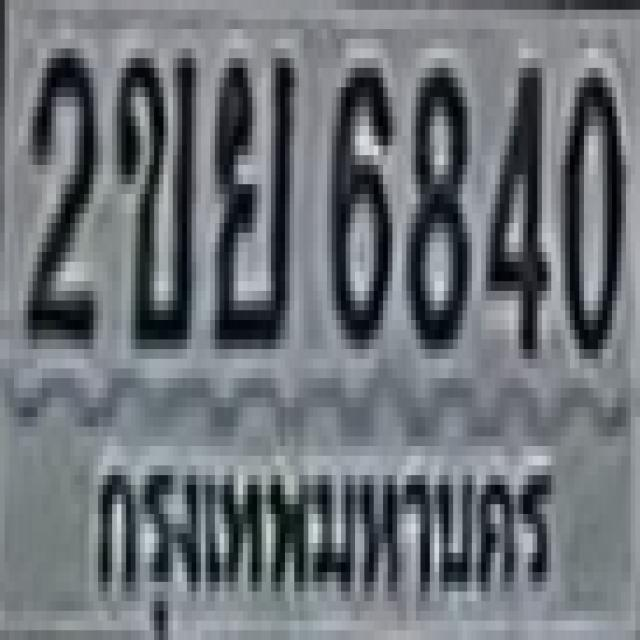-: (112, 39, 192, 339), (210, 48, 290, 340)
0: (556, 58, 621, 349)
2: (23, 38, 94, 330)
4: (486, 58, 542, 349)
6: (327, 58, 388, 340)
8: (404, 58, 465, 340)
